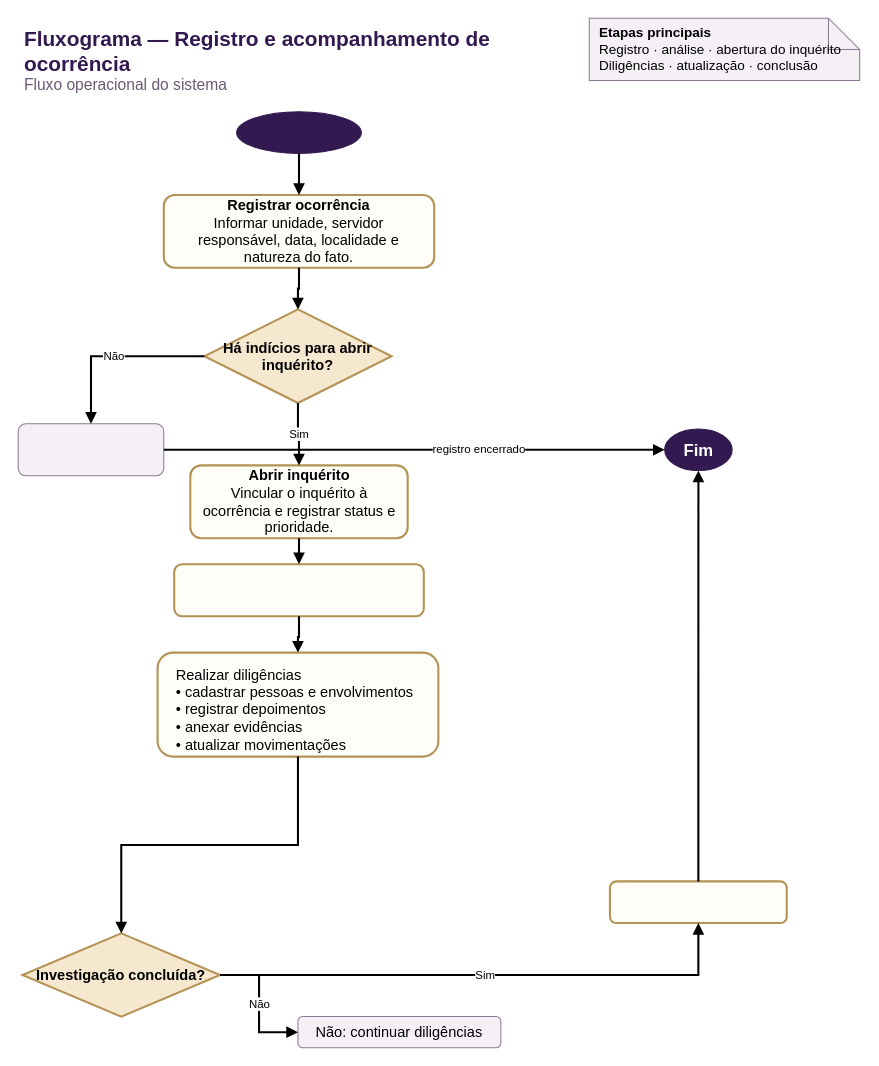
The diagram is 879 pixels wide and 1066 high, and some of its shapes have lost their labels. Each missing label, with the centre of its shape:
"Distribuir para servidor responsável e registrar a movimentação" goes at (x=298, y=590).
"Início" goes at (x=298, y=132).
"Não: manter ocorrência em análise" goes at (x=90, y=449).
"Registrar conclusão do inquérito" goes at (x=697, y=902).
